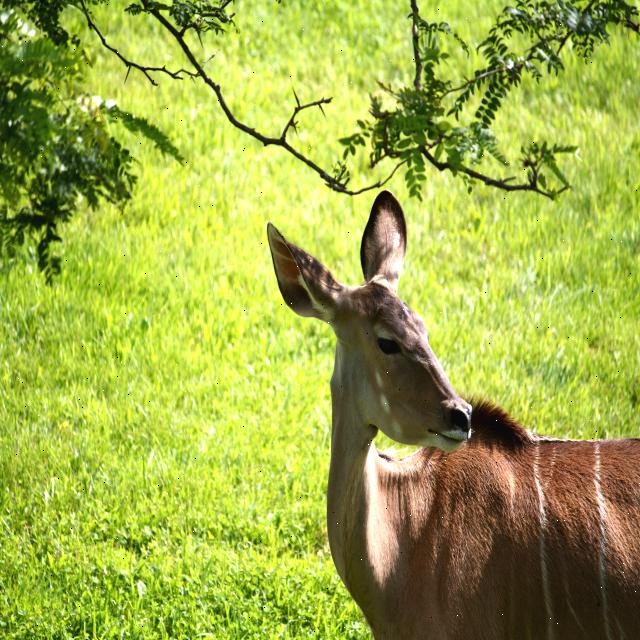deer: (259, 187, 640, 640)
